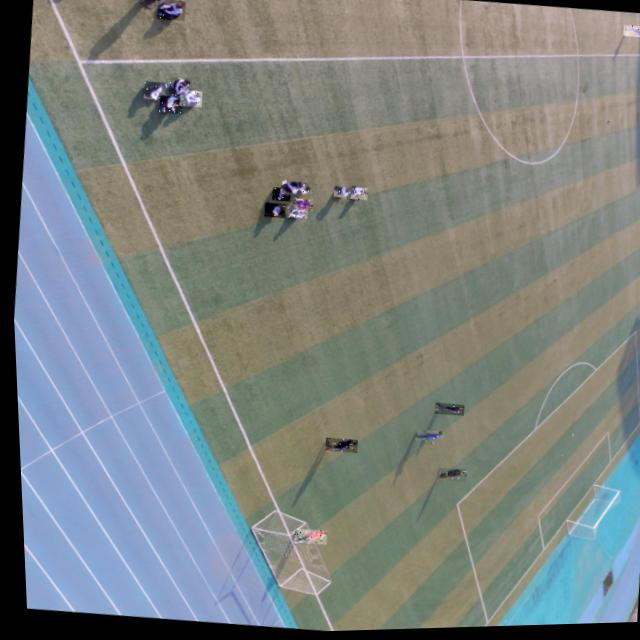Person: (154, 0, 185, 22), (288, 529, 321, 547), (319, 438, 353, 455), (140, 81, 165, 103), (166, 77, 191, 98), (155, 95, 181, 115), (430, 469, 461, 485), (138, 0, 178, 12), (176, 90, 201, 108), (429, 404, 459, 419), (409, 431, 438, 445), (260, 203, 283, 220), (278, 182, 300, 197), (268, 187, 288, 203), (621, 28, 640, 44), (289, 199, 310, 213), (283, 208, 304, 221), (347, 188, 365, 203), (330, 188, 348, 201), (293, 183, 307, 197)
